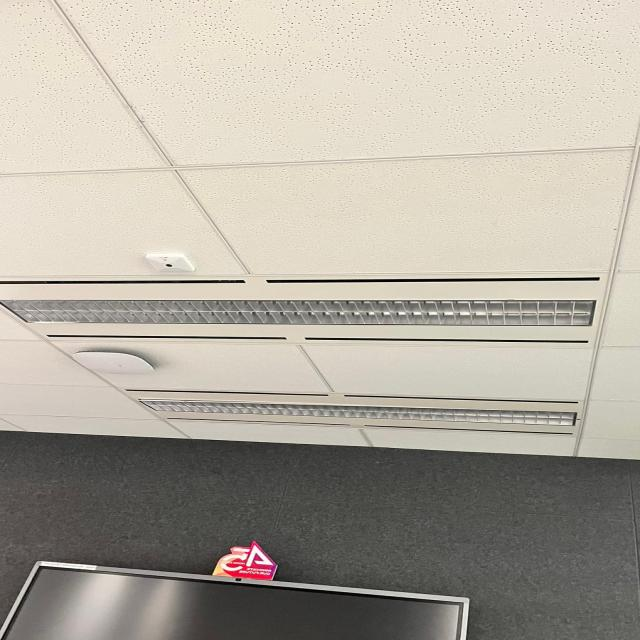Light-Closed: (1, 270, 613, 349), (118, 386, 589, 436)
